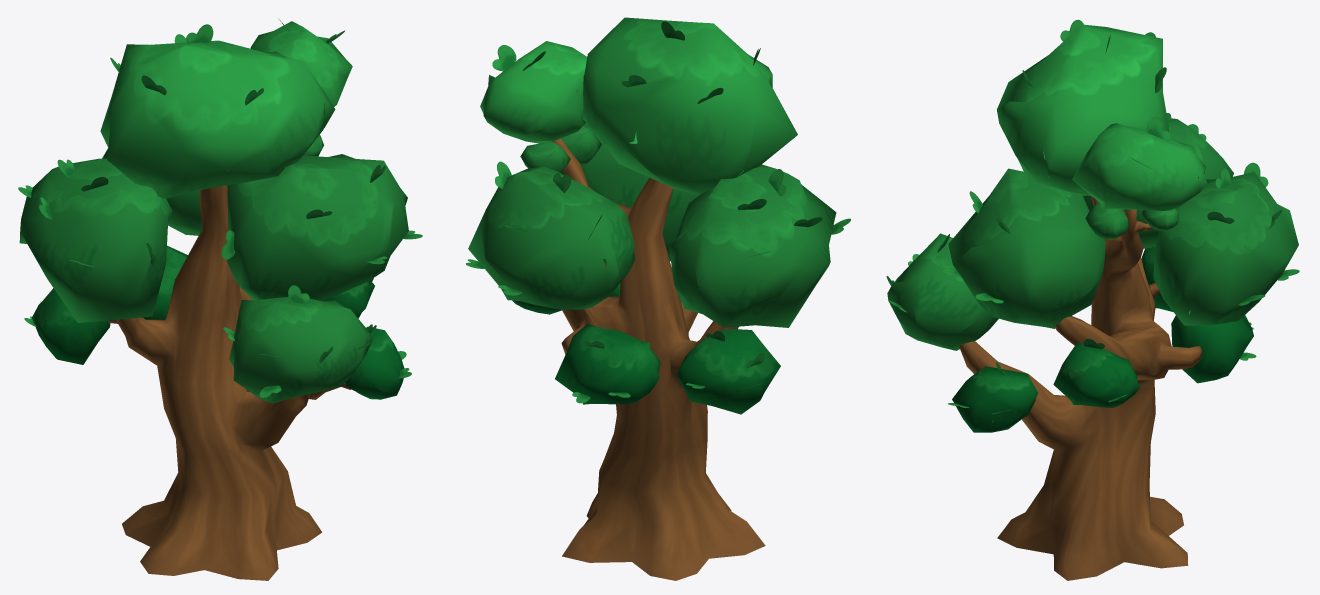
The model's file is Tree_Model.FBX.
The picture shows the model from 3 angles, left to right: view 1: azimuth 30°, elevation 25°; view 2: azimuth 150°, elevation 25°; view 3: azimuth 270°, elevation 25°; orthographic projection. The views are drawn at different scales.
Visible parts, largest first — view 1: Cylinder001; view 2: Cylinder001; view 3: Cylinder001.
Part boxes in pixels (<box>): Cylinder001: <box>18,18,422,580</box>; Cylinder001: <box>466,17,850,580</box>; Cylinder001: <box>886,19,1299,580</box>.
Size of the model in its own units: 73.13 by 108 by 81.94.
1 material, 1 textured.
